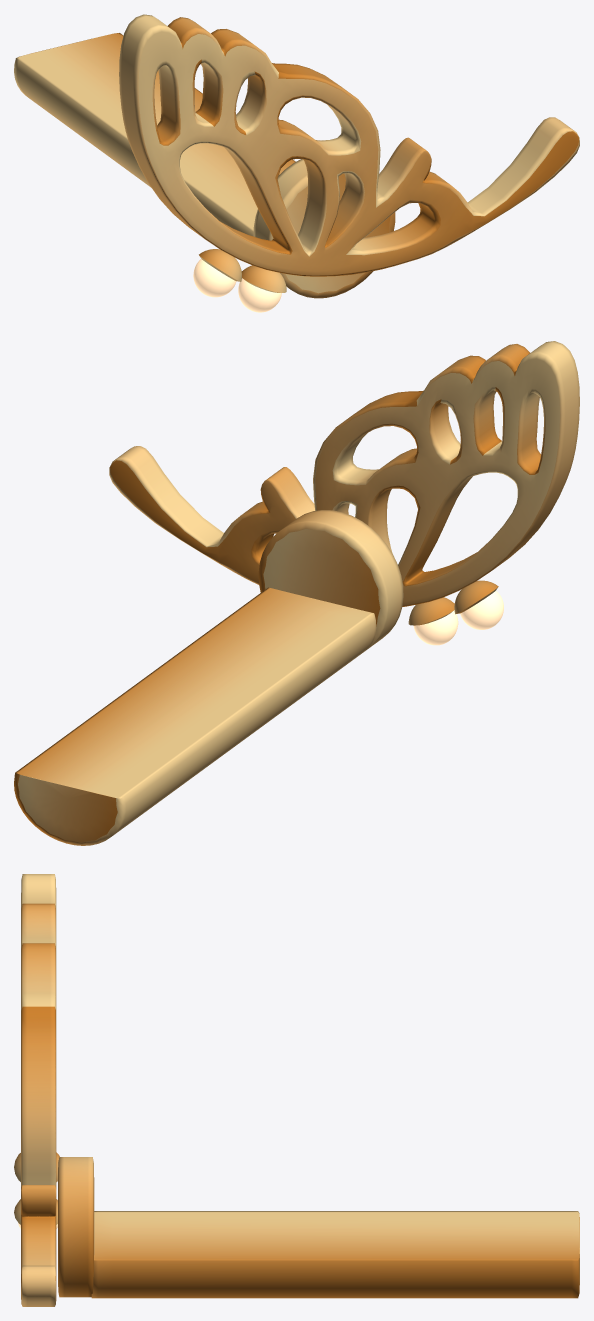
File: piasu.fbx
3 views of the same model, one above another, from view 1: azimuth 30°, elevation 25°; view 2: azimuth 150°, elevation 25°; view 3: azimuth 270°, elevation 25° (orthographic). The views are drawn at different scales.
Parts seen in each view (by area): view 1: polySurface4; view 2: polySurface4; view 3: polySurface4.
Boxes of the visible parts, <box> form: polySurface4: <box>14,14,579,312</box>; polySurface4: <box>14,341,579,845</box>; polySurface4: <box>14,874,579,1306</box>.
Bounding box in the file's own units: 54.8 × 39.01 × 61.91.
